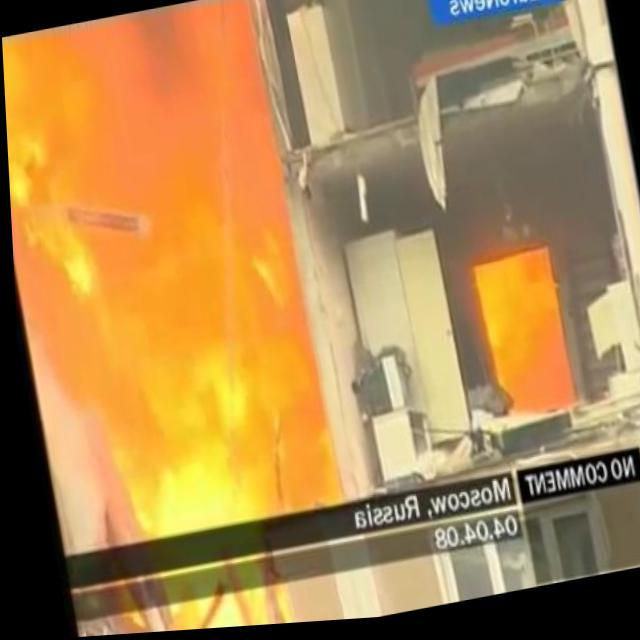fire: (0, 0, 334, 559), (470, 249, 573, 432)
